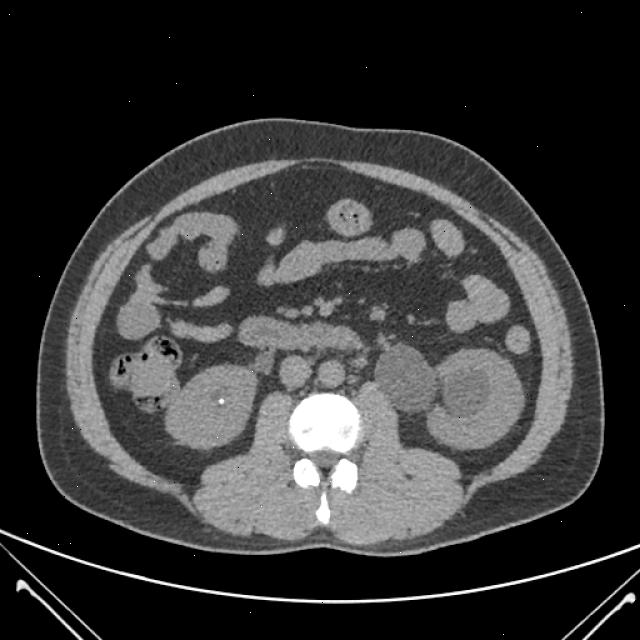kidneystone: (218, 398, 224, 404)
